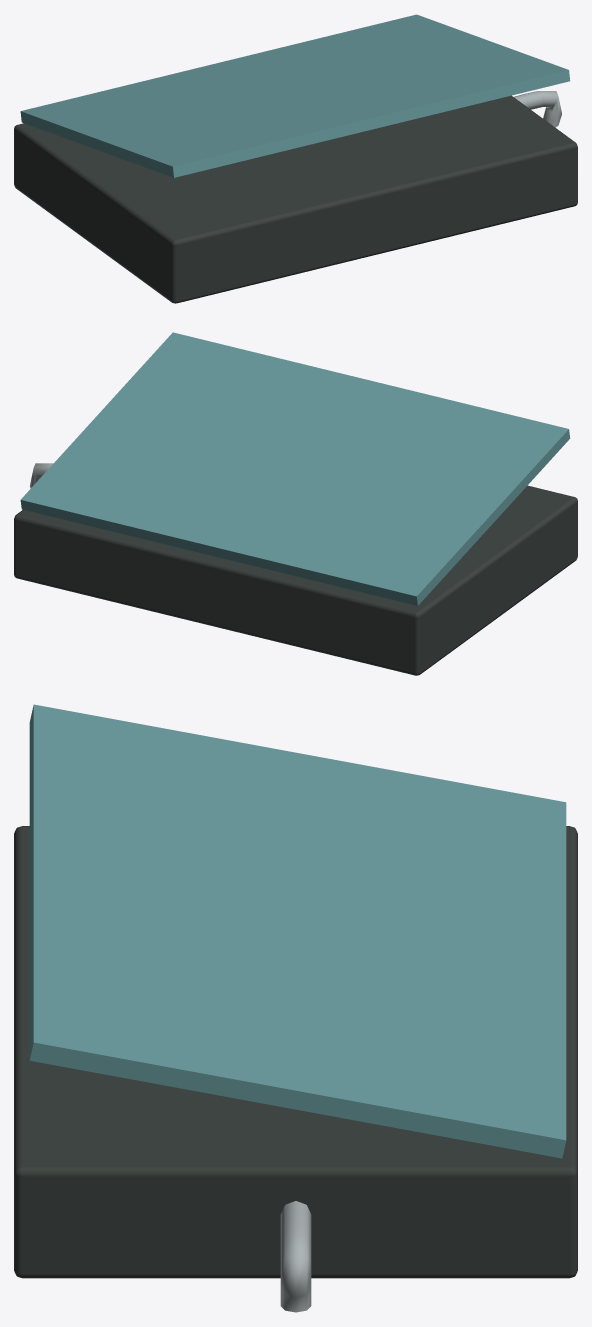
Rendered from water-collection-and-purification-solar-still-64f705b5__20193.glb.
3 views of the same model, one above another, from view 1: azimuth 30°, elevation 25°; view 2: azimuth 150°, elevation 25°; view 3: azimuth 270°, elevation 25° (orthographic). The views are drawn at different scales.
Parts seen in each view (by area): view 1: solar-still; view 2: solar-still; view 3: solar-still.
Boxes of the visible parts, bbox=[...] form: solar-still: bbox=[14, 14, 577, 303]; solar-still: bbox=[14, 332, 577, 675]; solar-still: bbox=[14, 704, 577, 1312].
Size of the model in its own units: 0.922 by 0.2523 by 0.55.
